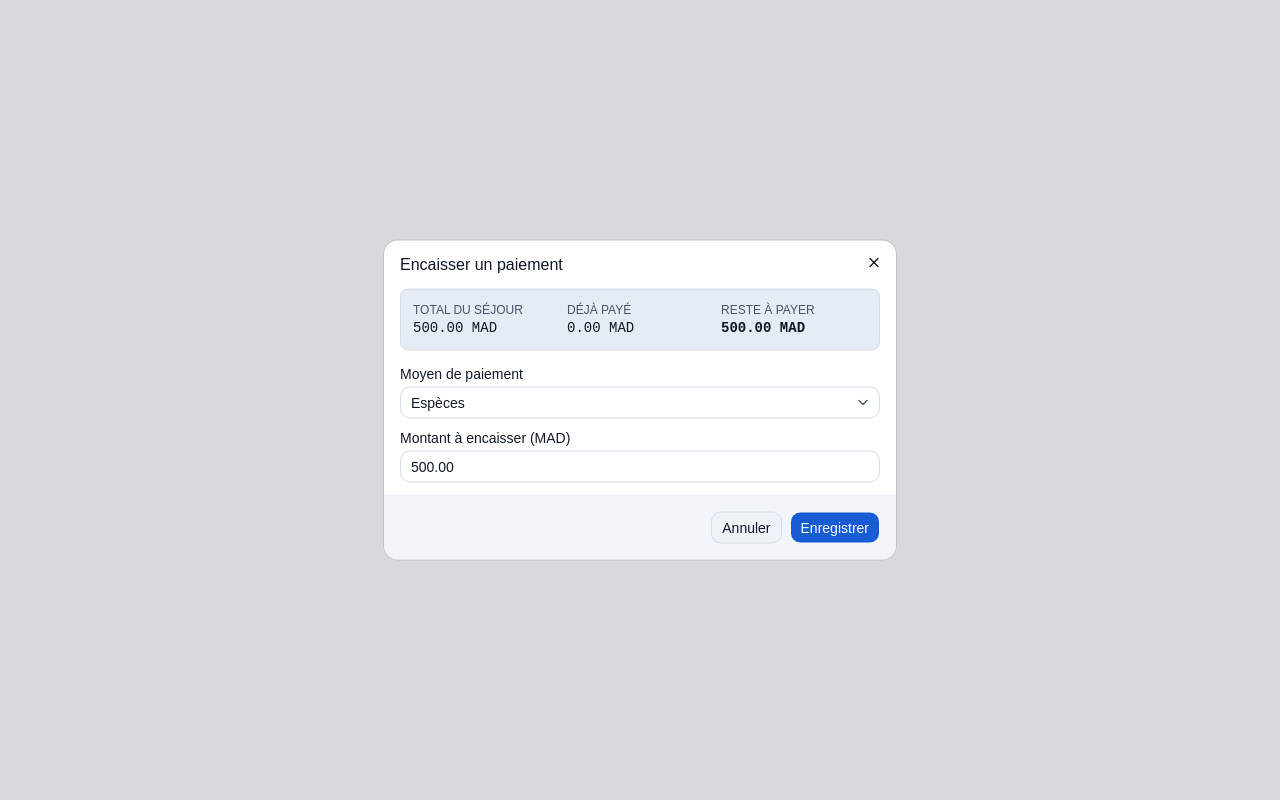
Test: RecordPaymentDialog — garde surpaiement (PAY-001B) › affiche un message propre sur une erreur OVERPAYMENT renvoyée par le serveur
Check: the number field labelled "Montant à encaisser (MAD)" holds "500.00", box x1=400 y1=450 x2=880 y2=482
Click the button "Enregistrer" at (835, 528), box x1=790 y1=512 x2=880 y2=544
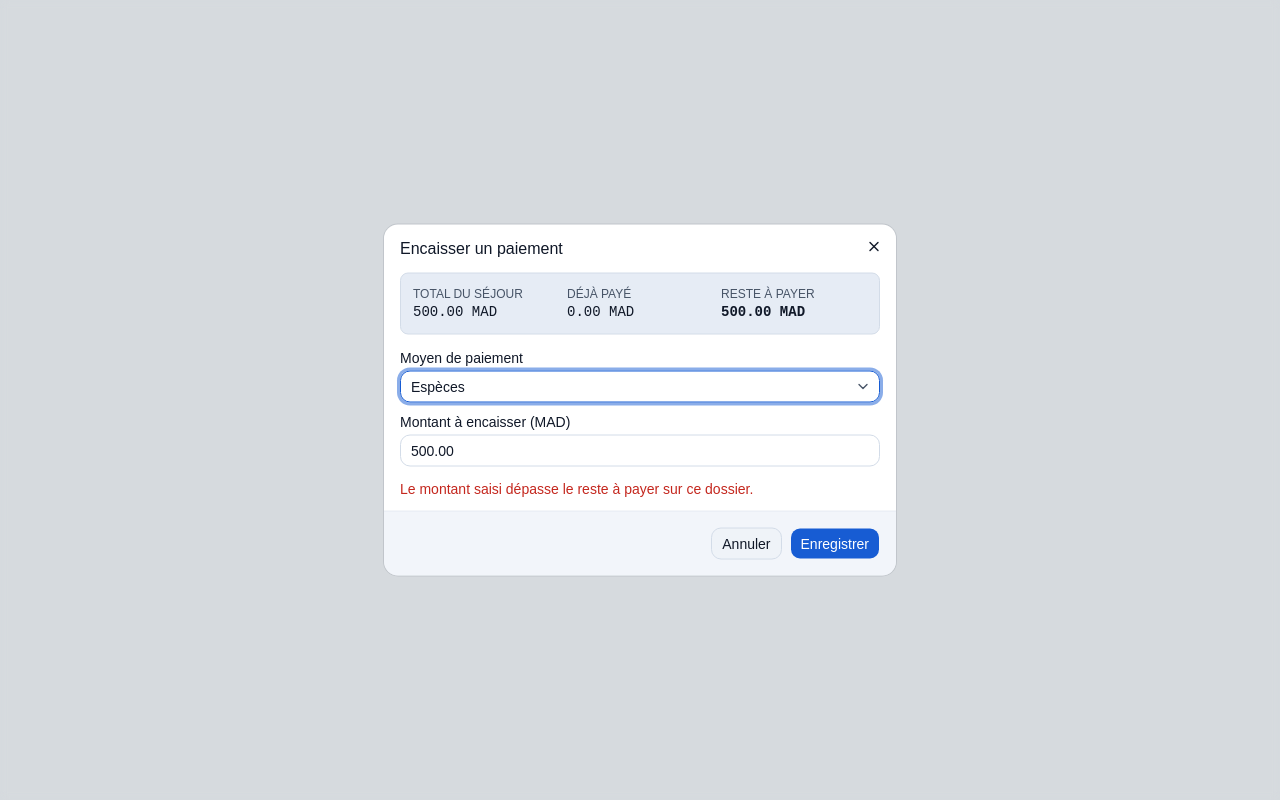
Check: the text "Le montant saisi dépasse le reste à payer sur ce dossier." is shown, box x1=400 y1=480 x2=753 y2=496
